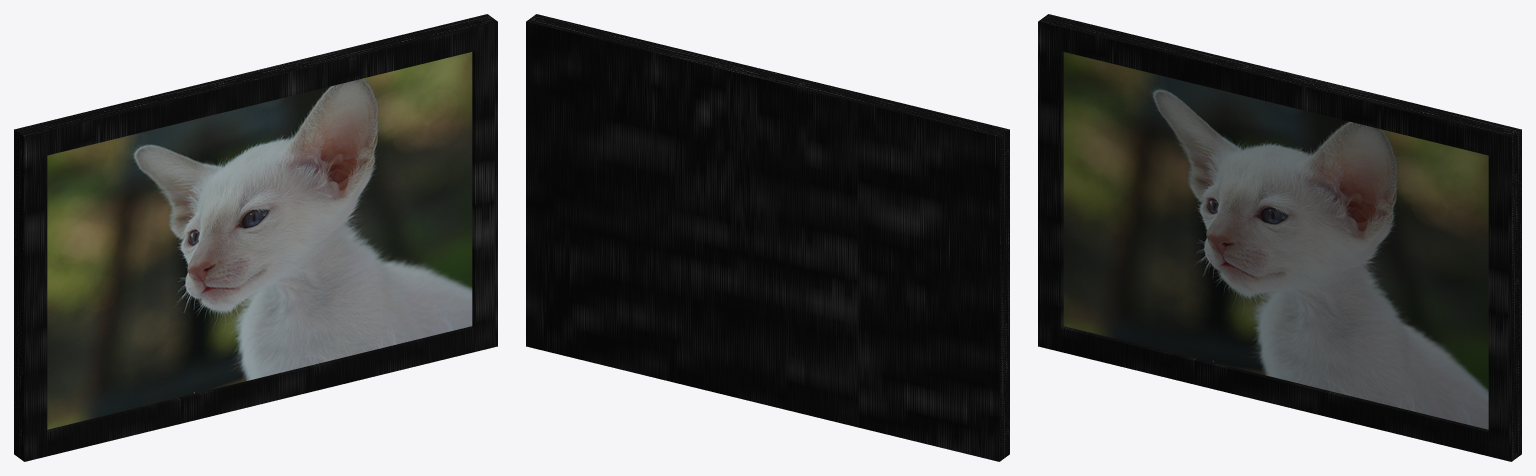
File: picture_8.fbx
3 views of the same model, side by side, from view 1: azimuth 30°, elevation 25°; view 2: azimuth 150°, elevation 25°; view 3: azimuth 330°, elevation 25° (orthographic).
Visible parts, largest first — view 1: picture_8; view 2: picture_8; view 3: picture_8.
Boxes of the visible parts, bbox=[...] form: picture_8: bbox=[14, 14, 497, 461]; picture_8: bbox=[526, 14, 1009, 461]; picture_8: bbox=[1038, 14, 1521, 461].
Bounding box in the file's own units: 0.9241 × 0.6061 × 0.035.
